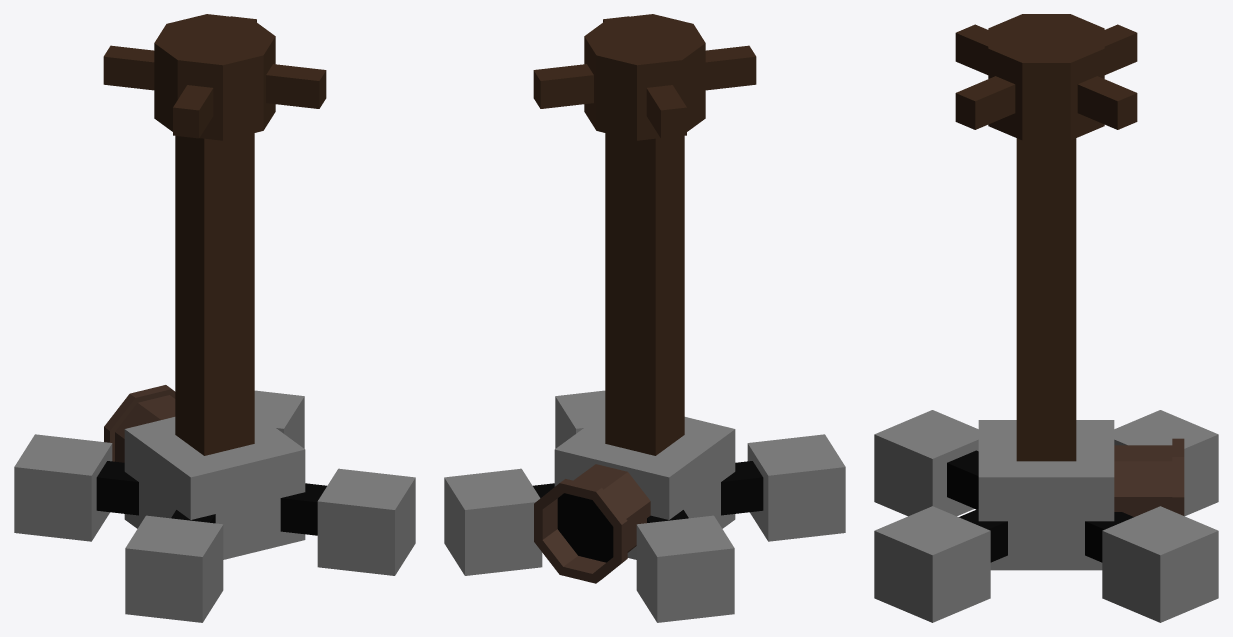
Rendered from Fabricator.fbx.
The picture shows the model from 3 angles, left to right: view 1: azimuth 30°, elevation 25°; view 2: azimuth 150°, elevation 25°; view 3: azimuth 270°, elevation 25°; orthographic projection. The views are drawn at different scales.
Visible parts, largest first — view 1: Cube.053, Cylinder.041; view 2: Cube.053, Cylinder.041; view 3: Cube.053, Cylinder.041.
Boxes of the visible parts, <box> form: Cube.053: <box>14,14,415,622</box>; Cylinder.041: <box>104,385,175,462</box>; Cube.053: <box>444,14,845,622</box>; Cylinder.041: <box>534,464,650,583</box>; Cube.053: <box>874,14,1218,622</box>; Cylinder.041: <box>1114,438,1184,516</box>.
Bounding box in the file's own units: 121 × 199 × 121.
